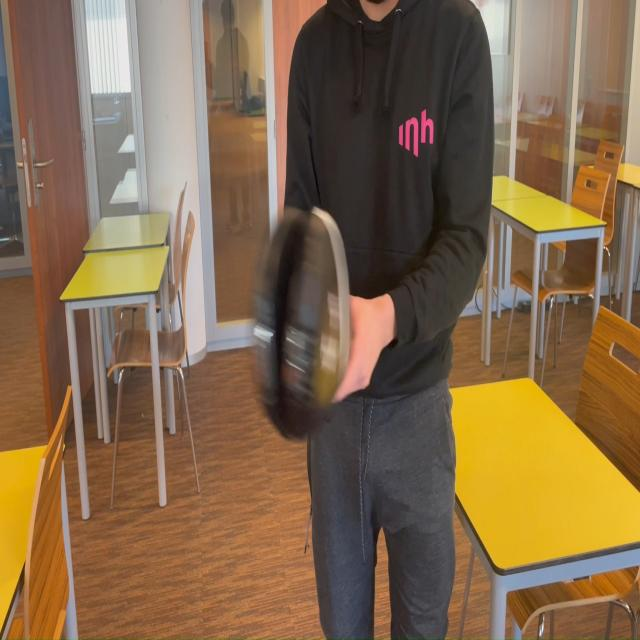paddle: (268, 211, 350, 429)
